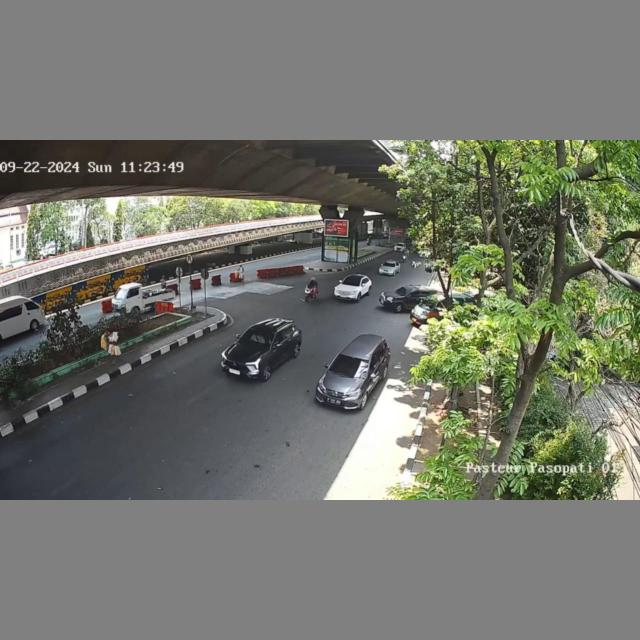windshield: (328, 354, 373, 378), (238, 330, 279, 349), (343, 277, 360, 287)
